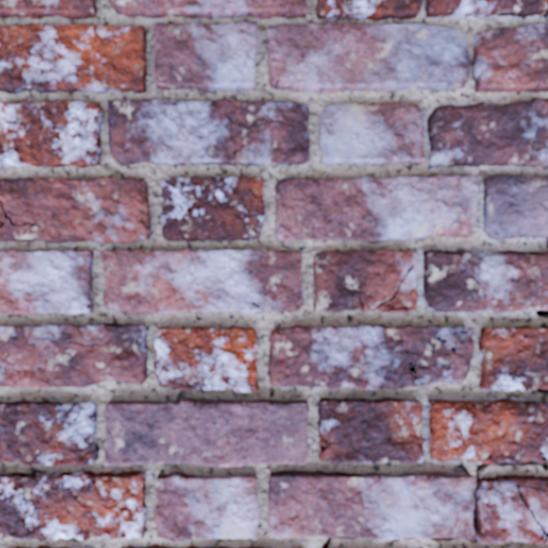brick: (269, 471, 547, 544), (268, 23, 470, 92), (275, 175, 479, 243), (104, 399, 308, 466), (108, 99, 308, 165), (101, 249, 303, 313), (269, 326, 473, 389), (0, 24, 147, 93), (0, 471, 146, 539), (0, 178, 150, 242), (0, 324, 147, 387), (154, 472, 258, 542), (155, 22, 257, 92), (0, 99, 103, 166), (319, 398, 423, 464), (154, 327, 258, 392), (162, 176, 264, 241), (0, 401, 99, 466), (319, 104, 424, 164), (313, 250, 416, 311), (0, 250, 94, 314), (473, 24, 547, 91), (479, 327, 547, 390), (109, 0, 307, 19), (318, 0, 422, 20), (0, 0, 96, 19), (378, 268, 418, 310), (0, 210, 2, 220)
broken_brick: (426, 98, 547, 167), (423, 249, 547, 314), (427, 398, 547, 464), (482, 174, 547, 240), (424, 0, 547, 20)
crack: (515, 481, 547, 545), (372, 264, 414, 312), (476, 459, 547, 482), (0, 199, 44, 229), (428, 502, 460, 543), (321, 536, 358, 547), (350, 283, 364, 311), (487, 175, 493, 229), (320, 440, 332, 454), (537, 387, 547, 403), (251, 301, 266, 311), (469, 534, 480, 545), (536, 309, 547, 319), (85, 302, 90, 313), (543, 9, 547, 22), (0, 179, 4, 189), (473, 509, 476, 522), (456, 251, 462, 257), (545, 237, 547, 248), (295, 306, 300, 309), (407, 536, 414, 538)
